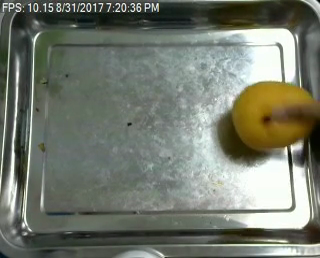Mango: (228, 77, 320, 152)
